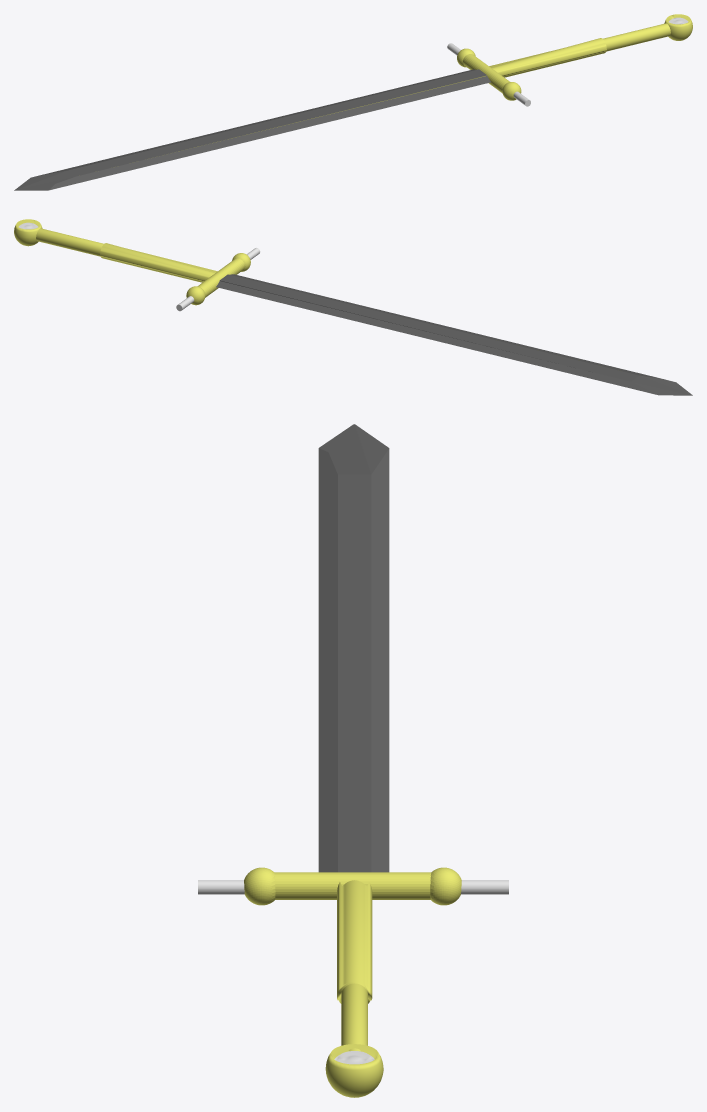
File: Longsword.fbx
3 views of the same model, one above another, from view 1: azimuth 30°, elevation 25°; view 2: azimuth 150°, elevation 25°; view 3: azimuth 270°, elevation 25° (orthographic). The views are drawn at different scales.
Visible parts, largest first — view 1: Longsword; view 2: Longsword; view 3: Longsword.
Part boxes in pixels (left/top/right/bottom): Longsword: left=14, top=14, right=692, bottom=190; Longsword: left=14, top=219, right=692, bottom=395; Longsword: left=198, top=424, right=508, bottom=1097.
Size of the model in its own units: 557 by 16.08 by 111.
